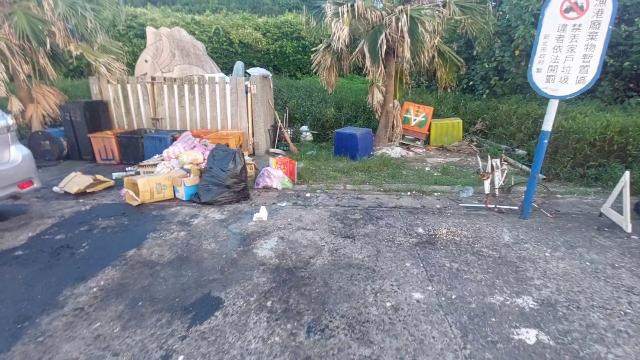pollute: (54, 125, 299, 207), (377, 99, 466, 156), (333, 125, 372, 162), (477, 152, 506, 196), (253, 205, 267, 220)
